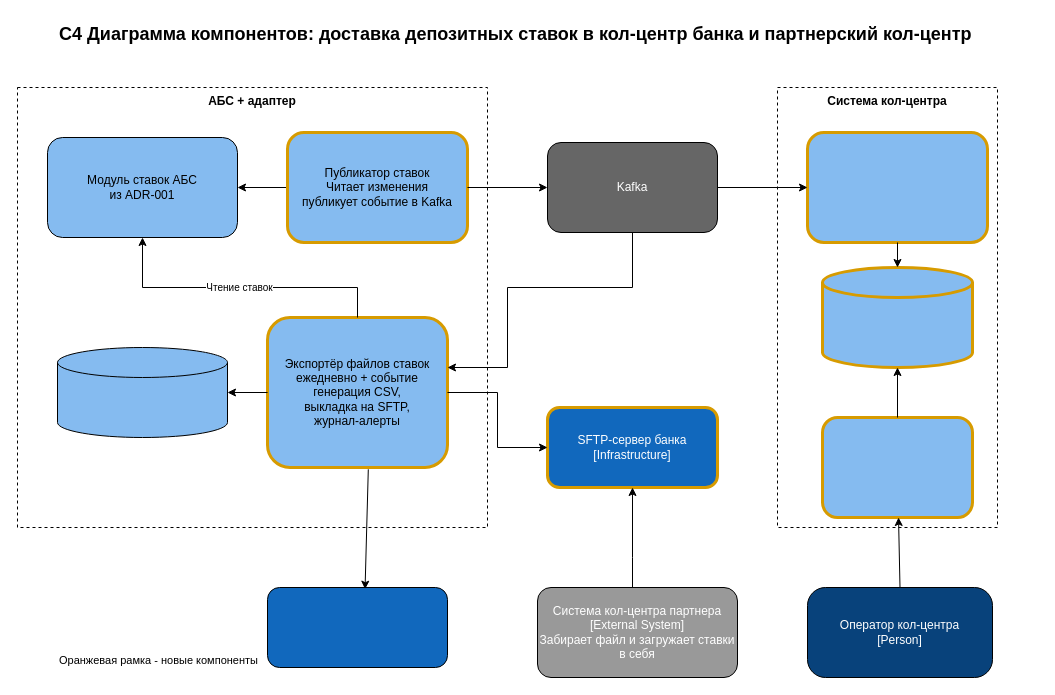
The diagram is 1055 pixels wide and 695 high, and some of its shapes have lost their labels. The centre of each missing label's shape, as x and y in pixels:
алертинг [Infrastructure]: (x=357, y=627)
БД ставок PostgreSQL Локальная копия: (x=897, y=317)
Журнал выгрузок: (x=142, y=392)
Интерфейс оператора [Component]: (x=897, y=467)
Сервис ставок КЦ - консьюмер [Component] Принимает изменения ставок: (x=897, y=187)
